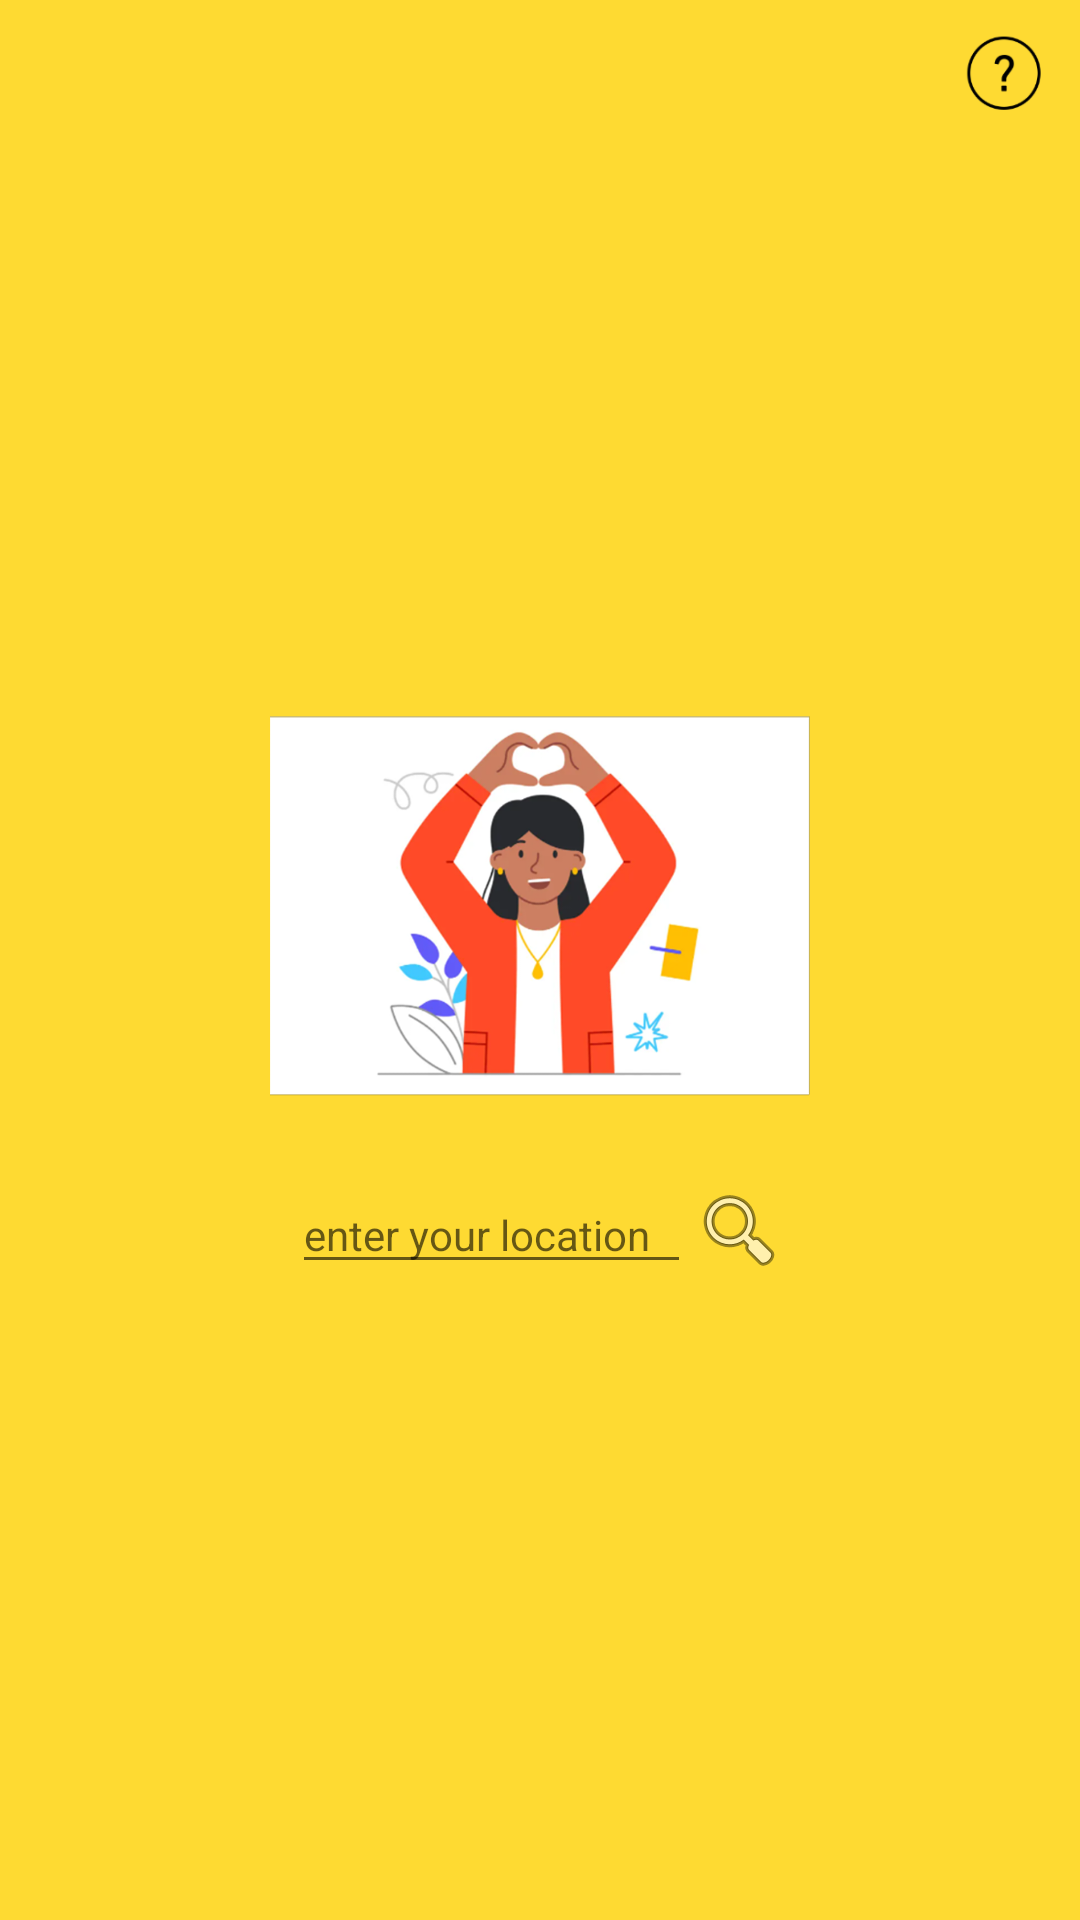

Point at icon controls on the screen. Image size 1080*1920, points as [x,y].
info: [1004,73]
search: [739,1230]
